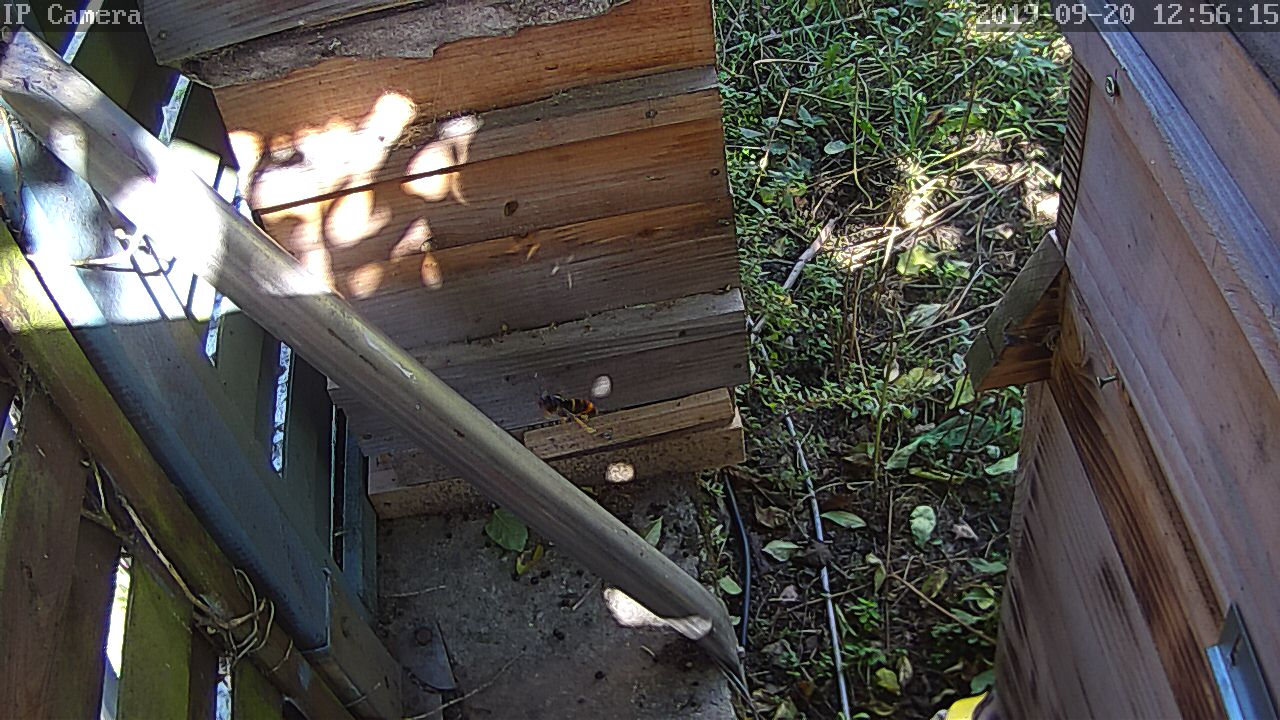hornet: (54, 0, 1254, 720), (532, 386, 597, 434)
